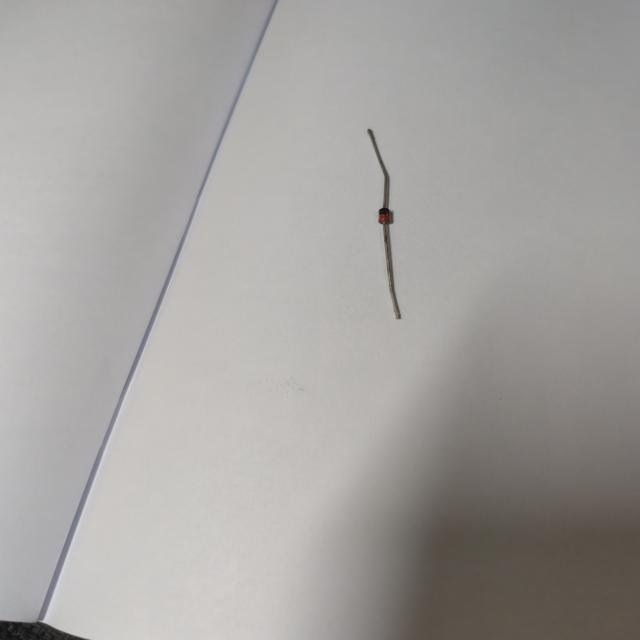resistor: (356, 121, 421, 322)
